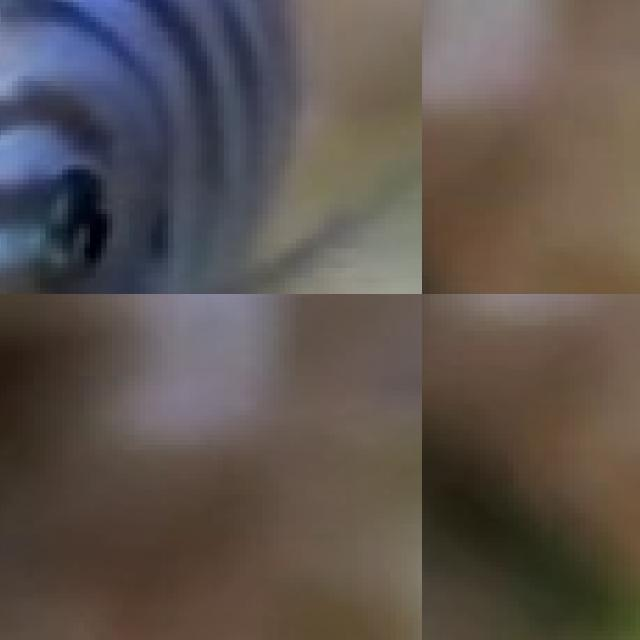fish: (0, 0, 422, 294), (422, 294, 541, 640)
